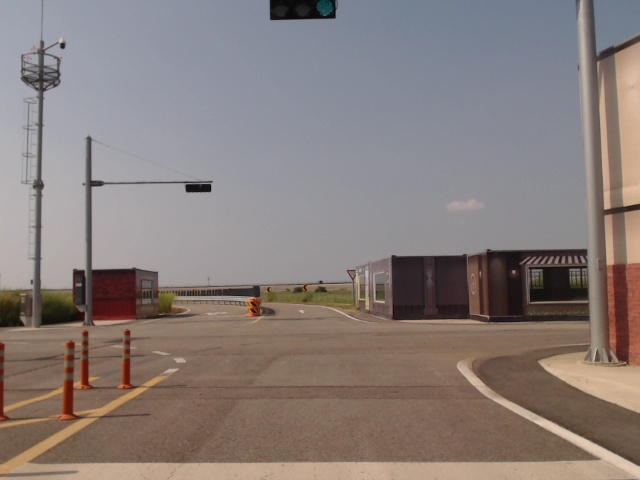green_3: (269, 0, 337, 20)
